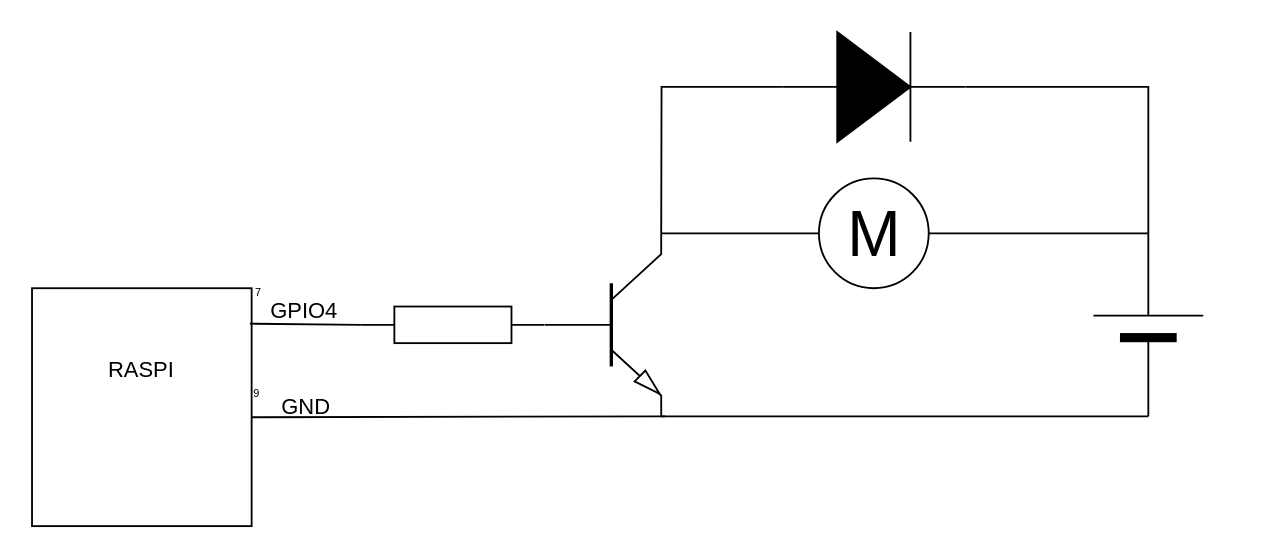
This 1274x558 diagram has some shape labels left out. The shapes that lost their labels are listed below. From the top down, each one's box as (x1, y1, x2, y2) in pixels, then its label:
(360, 305, 544, 343): R330
(1092, 231, 1203, 416): 9V
